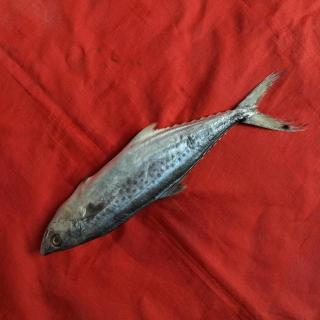Ikan: (37, 69, 292, 264)
